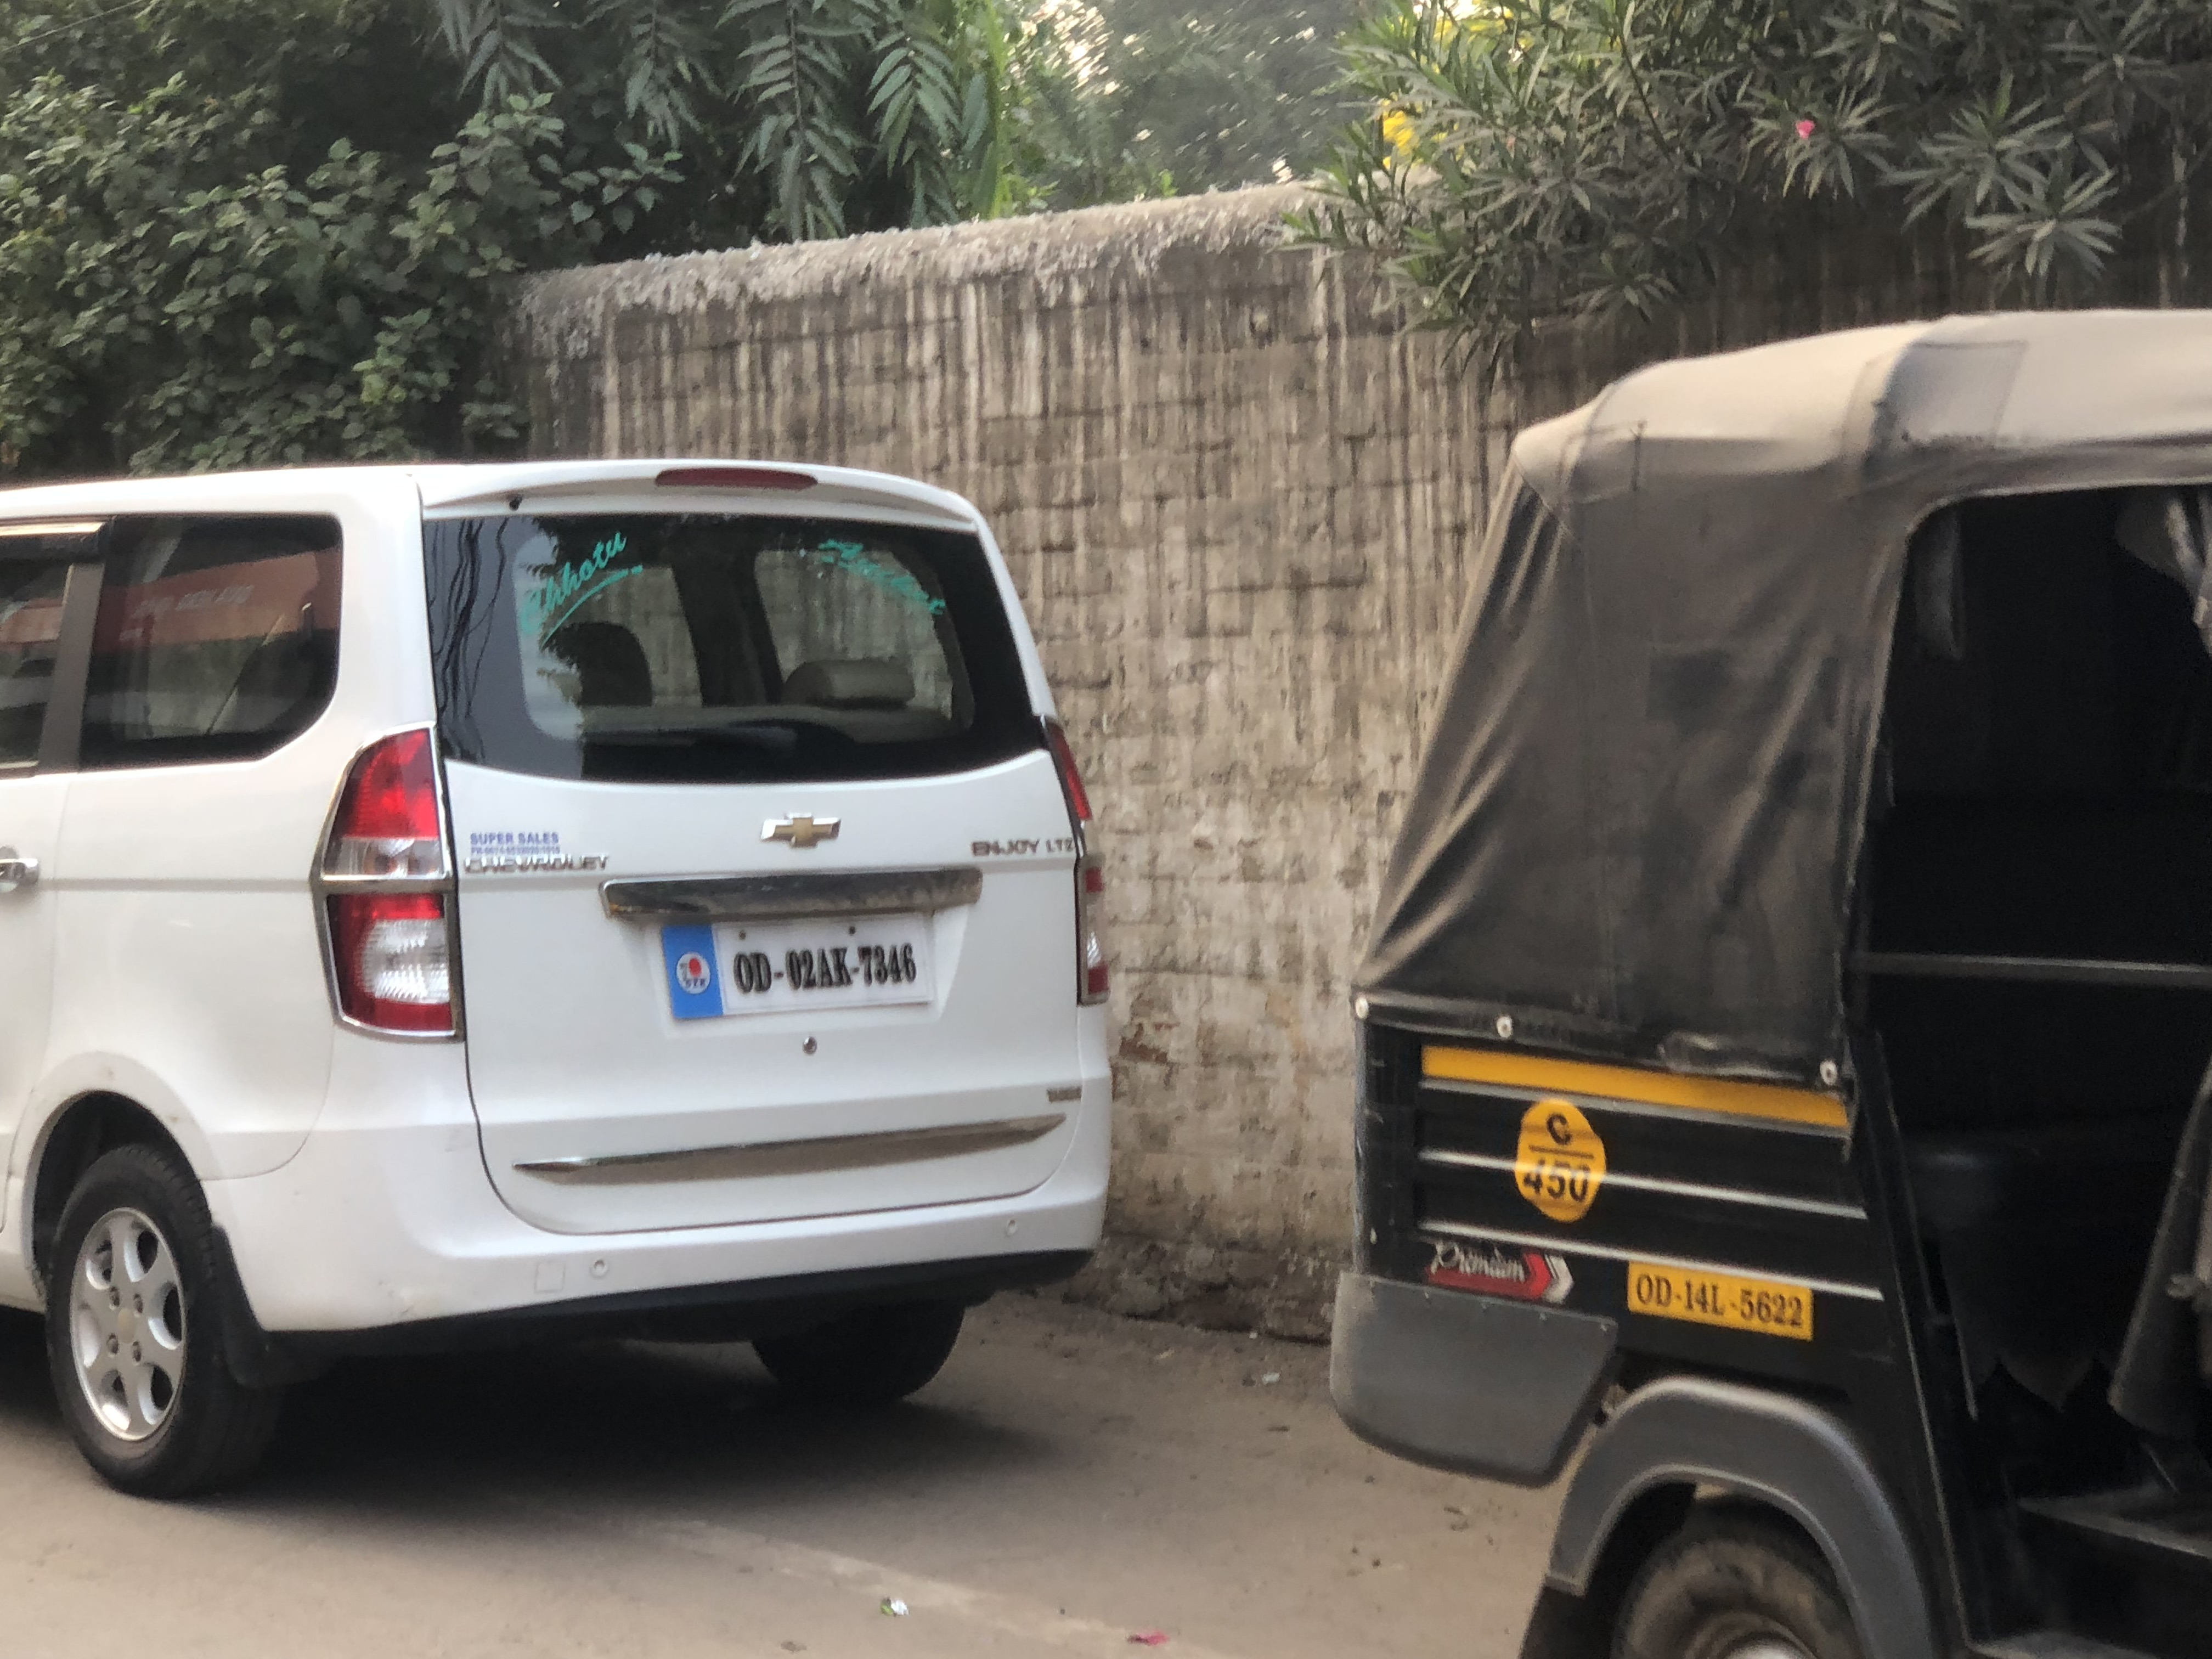licenseplate: (649, 901, 949, 1019)
